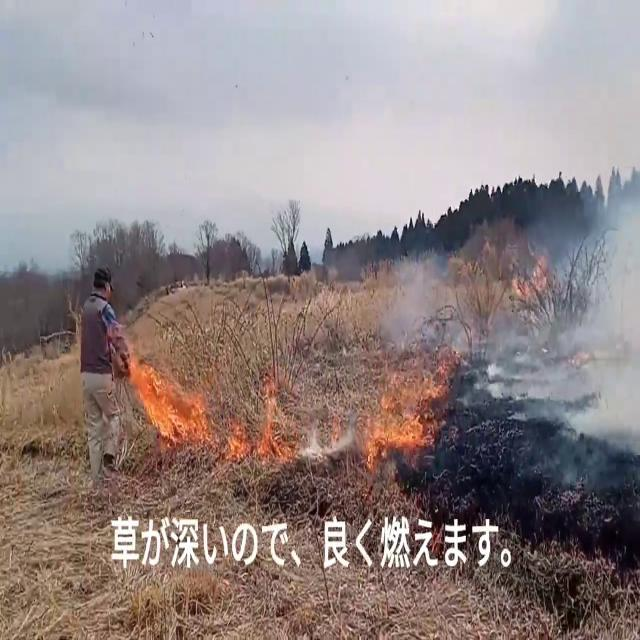Fire: (352, 333, 454, 476), (131, 354, 201, 460), (247, 381, 314, 482)
Smoke: (530, 170, 640, 450), (386, 236, 482, 366)
